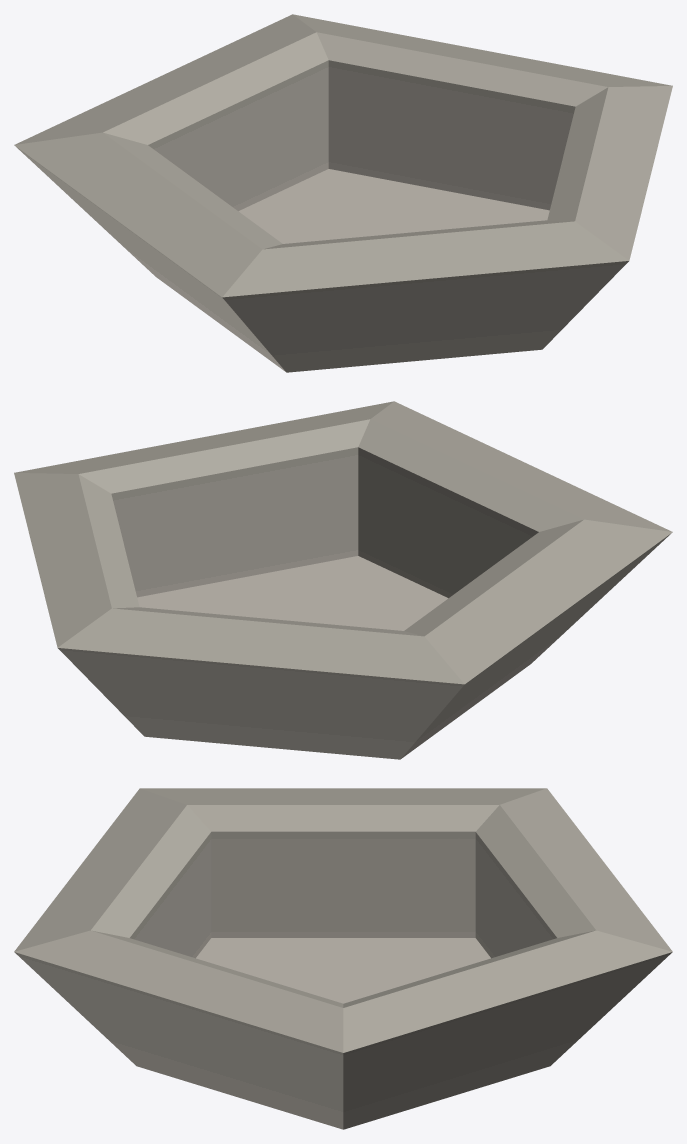
File: YN_FirePlace2.fbx
3 renders of one model, top to bottom at view 1: azimuth 30°, elevation 25°; view 2: azimuth 150°, elevation 25°; view 3: azimuth 270°, elevation 25°, orthographic. The views are drawn at different scales.
Parts seen in each view (by area): view 1: FirePlace2; view 2: FirePlace2; view 3: FirePlace2.
Part boxes in pixels (x1=…): FirePlace2: x1=14, y1=14, x2=672, y2=372; FirePlace2: x1=14, y1=401, x2=672, y2=759; FirePlace2: x1=14, y1=788, x2=672, y2=1129.
Bounding box in the file's own units: 0.8208 × 0.2025 × 0.863.
